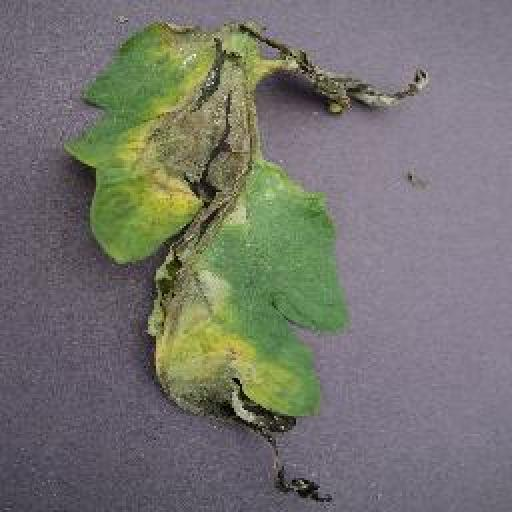disease_tomato: (62, 17, 426, 512)
